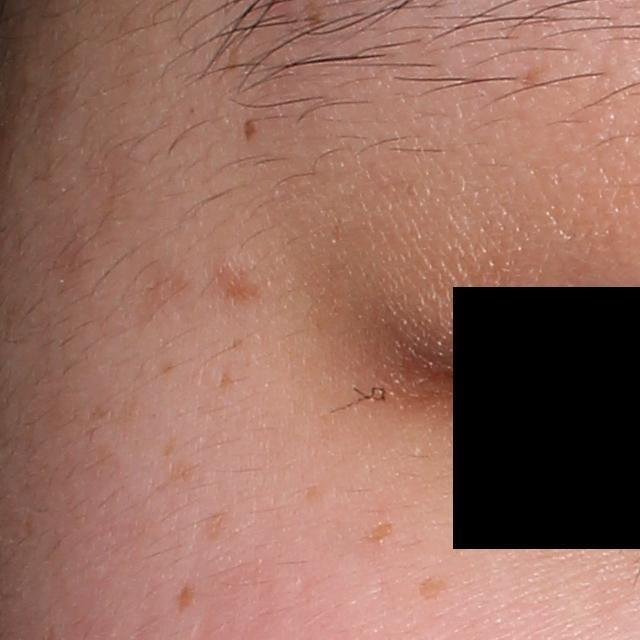melasma: (127, 262, 182, 338), (217, 254, 266, 309), (193, 504, 231, 540), (354, 521, 396, 551), (411, 575, 458, 601), (166, 583, 194, 613), (296, 483, 321, 508)
nevus: (236, 114, 260, 148)
